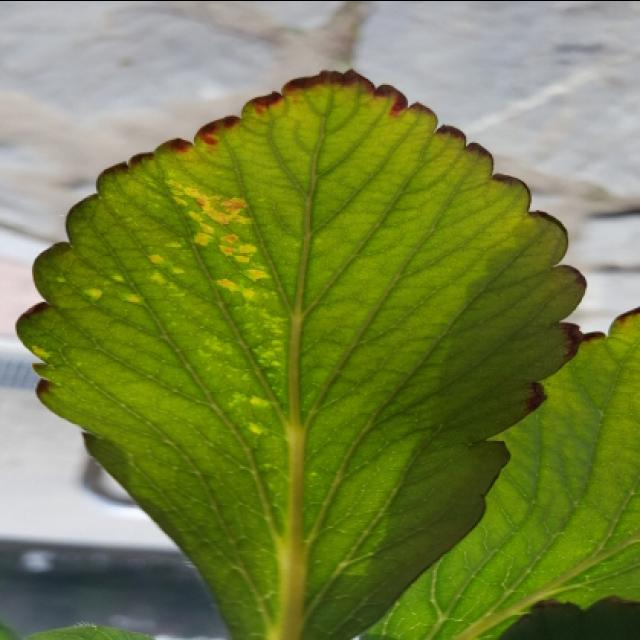Angular Leafspot: (31, 163, 292, 444)
